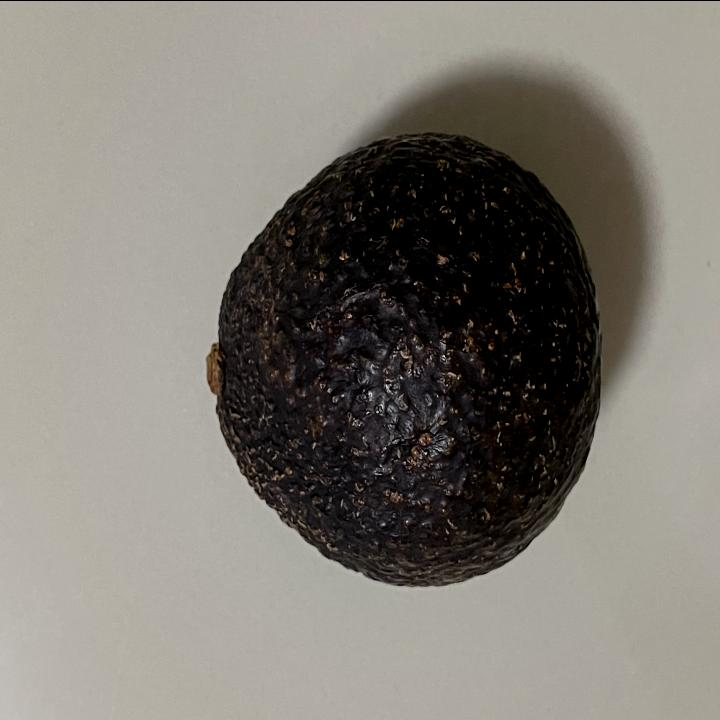Level3: (200, 116, 610, 600)
